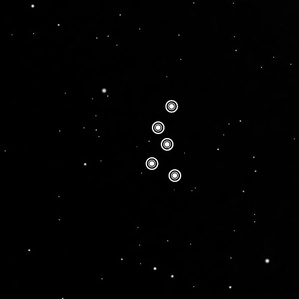cassiopeia: (138, 93, 189, 188)
